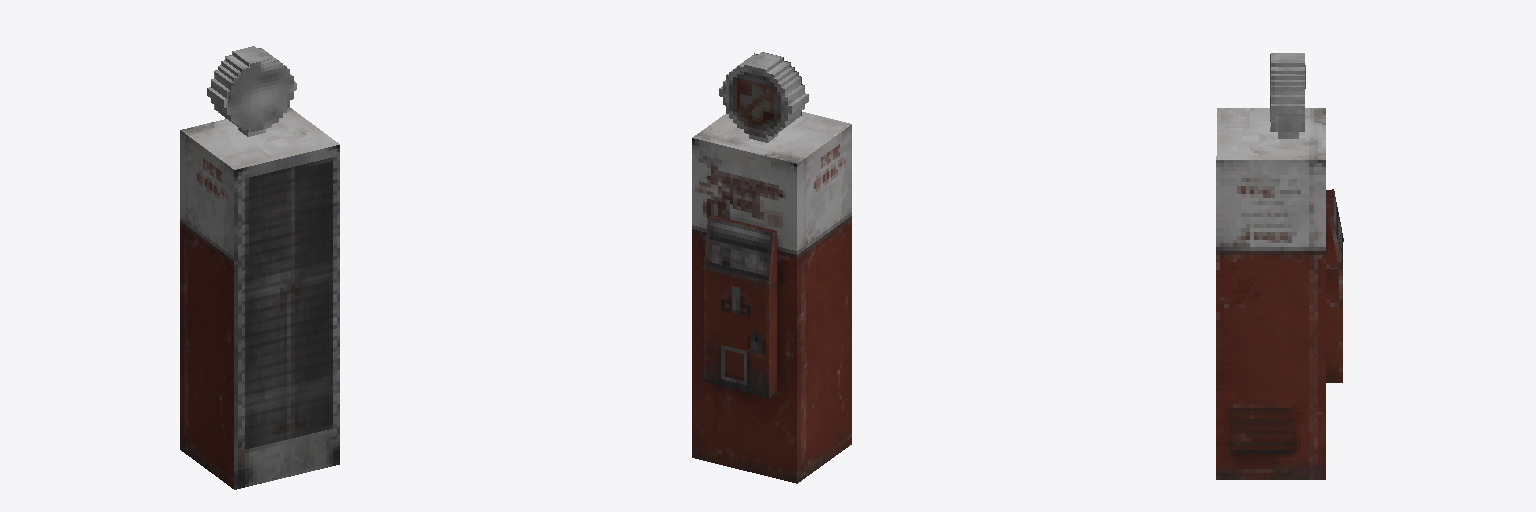
3 views of the same model, side by side, from view 1: azimuth 30°, elevation 25°; view 2: azimuth 150°, elevation 25°; view 3: azimuth 270°, elevation 25° (orthographic).
Visible parts, largest first — view 1: JuggBase, Icon.000; view 2: JuggBase, JuggBase.000, JuggBase1, Icon.005; view 3: JuggBase, JuggBase.000, JuggBase1.
Boxes of the visible parts, box(x1,y1,x2,y2) form: JuggBase: box(180, 108, 339, 489); Icon.000: box(228, 58, 293, 131); JuggBase: box(692, 112, 851, 483); JuggBase.000: box(704, 269, 776, 397); JuggBase1: box(703, 215, 776, 284); Icon.005: box(723, 64, 787, 137); JuggBase: box(1216, 108, 1325, 479); JuggBase.000: box(1326, 269, 1342, 382); JuggBase1: box(1326, 189, 1343, 268).
Bounding box in the file's own units: 14.56 × 52 × 15.12.
Materials: 1 (1 with a texture image).